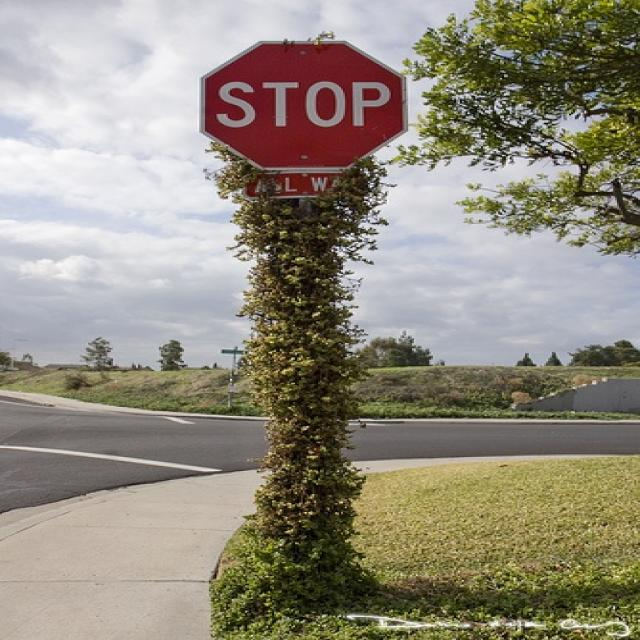pole: (245, 165, 368, 591)
